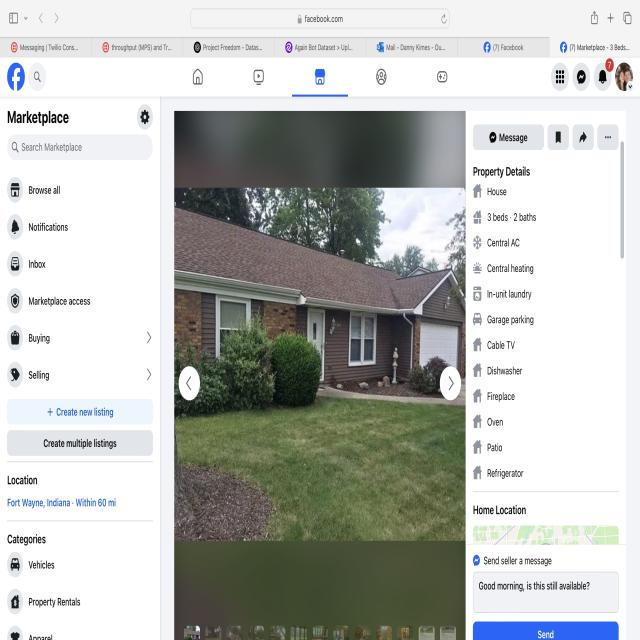message_button: (475, 621, 618, 640)
